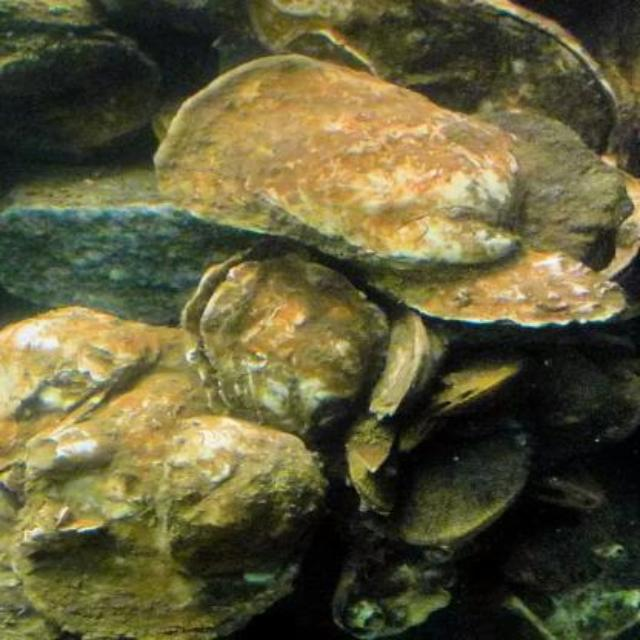Oyster-Closed: (3, 324, 304, 640), (158, 55, 523, 272), (183, 245, 398, 436), (461, 110, 634, 273), (151, 420, 323, 573), (467, 0, 625, 158), (0, 314, 158, 467), (376, 245, 627, 325), (333, 509, 480, 637), (397, 405, 532, 544), (527, 350, 640, 469), (400, 362, 521, 449), (365, 306, 445, 420), (604, 168, 640, 285), (345, 447, 401, 518), (532, 468, 607, 508), (150, 96, 190, 140)
